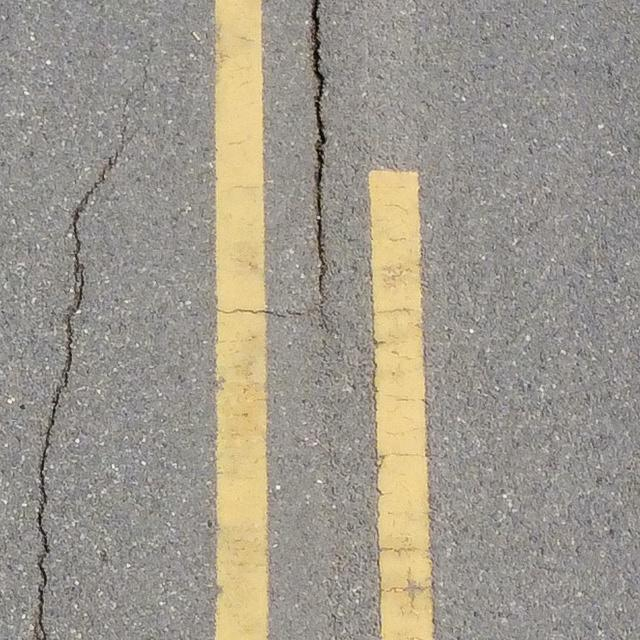LongitudinalCrack: (32, 99, 135, 640), (309, 1, 329, 305)
